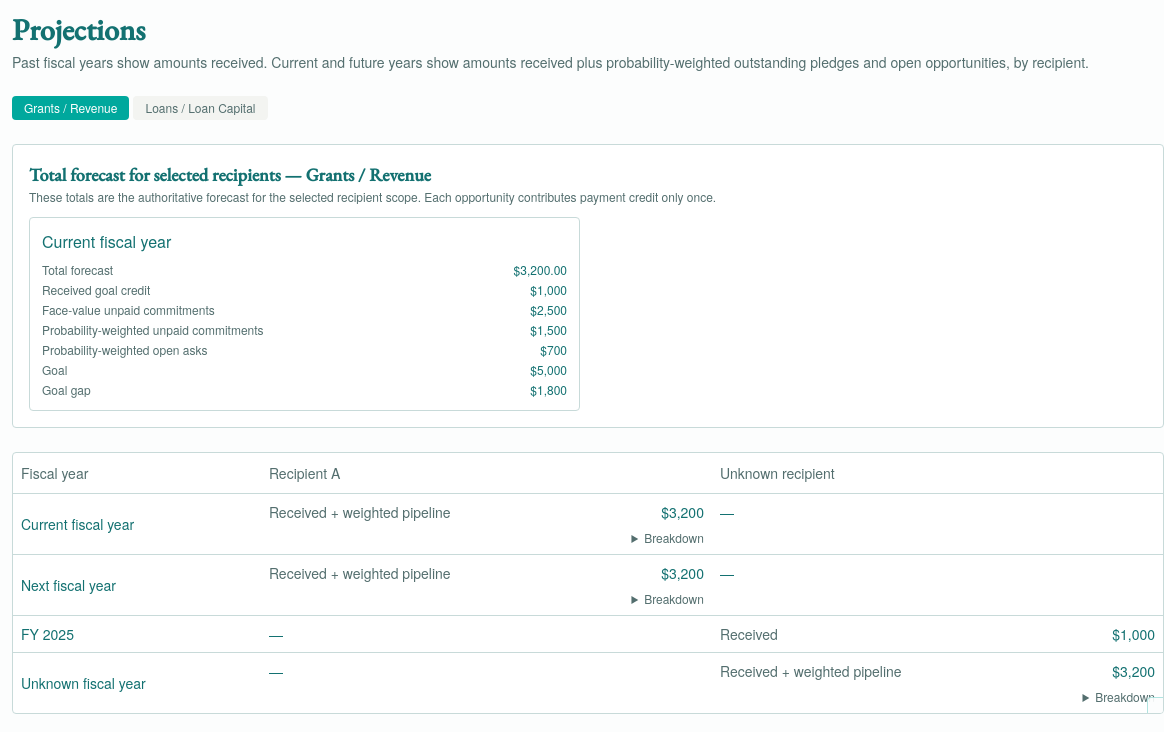
Test: projections forecast distinctions › sends the active category with the recipient scope and renders only that response
Step 1. Click the button with test id "projections-category-loan_capital" → [201, 108], box top-left (134, 96), bottom-right (268, 120)
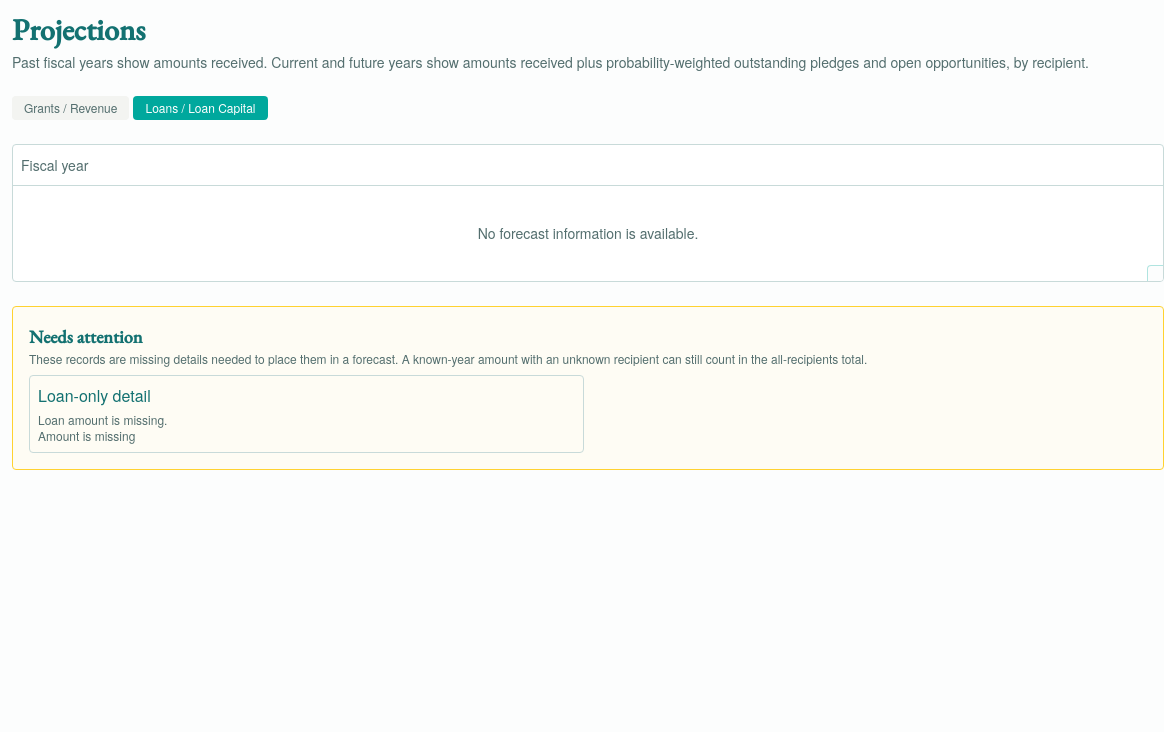
Now the text "Loan-only detail" is shown, box top-left (38, 384), bottom-right (151, 407)
